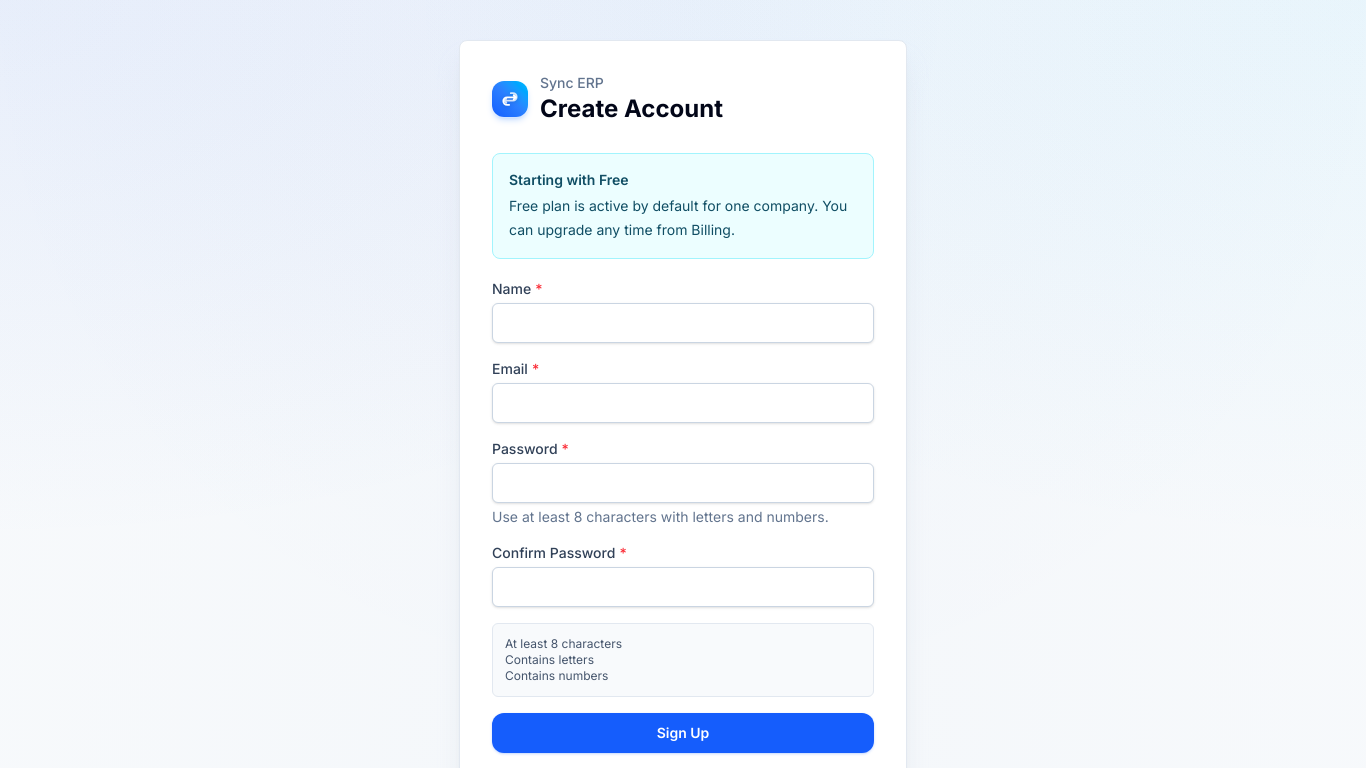
RegisterPage › Form Submission › shows verification screen on successful registration
Type "Test User" into the field labelled "Name*" at (683, 323), box [492,303,874,343]
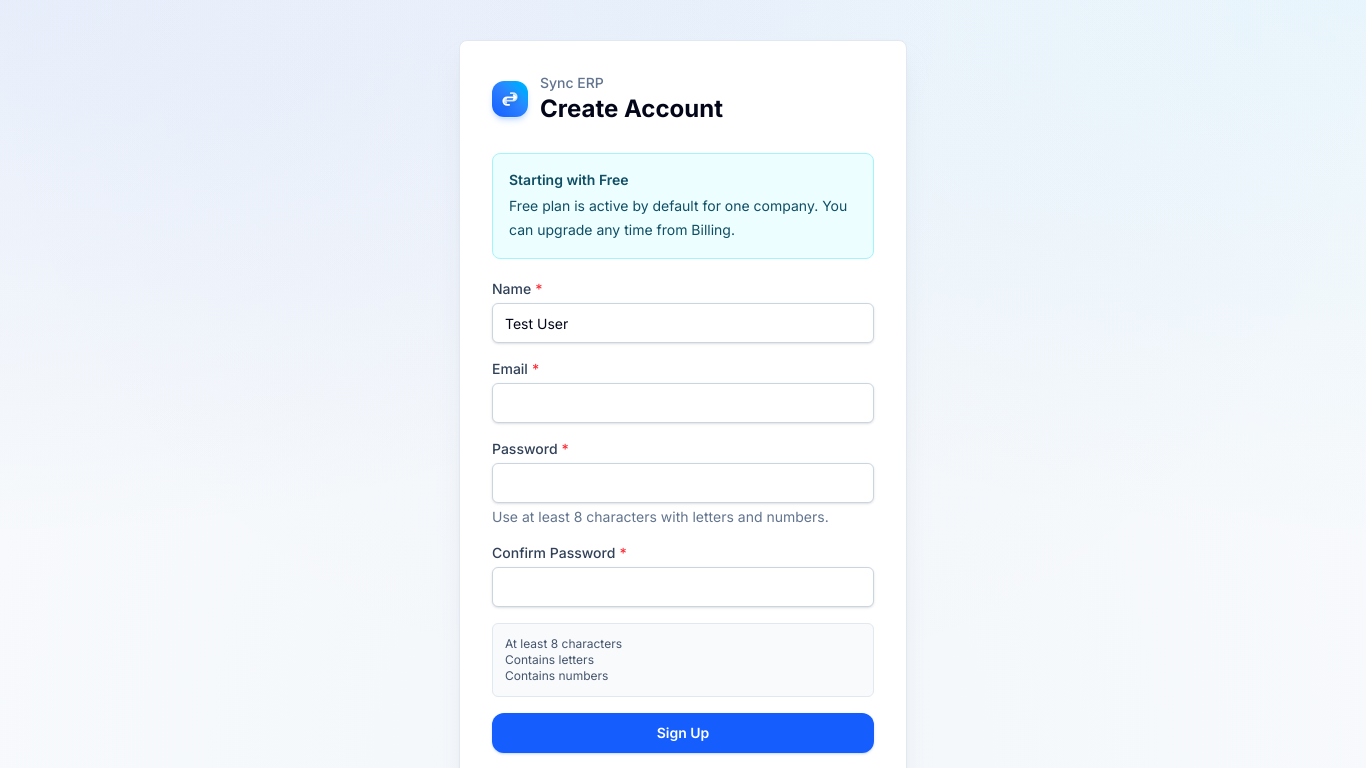
Type "test@example.com" into the field labelled "Email*" at (683, 403), box [492,383,874,423]
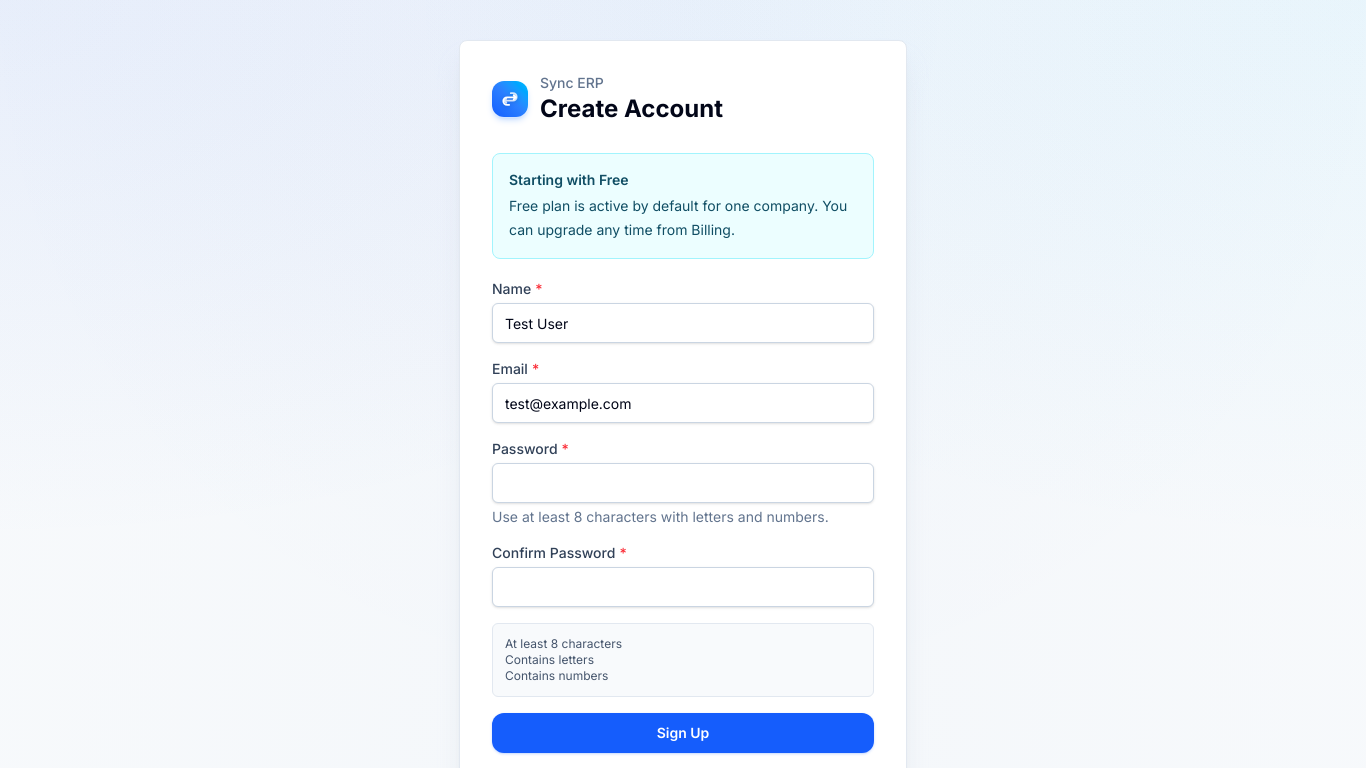
Type "password123" into the password field labelled "Password*" at (683, 483), box [492,463,874,503]
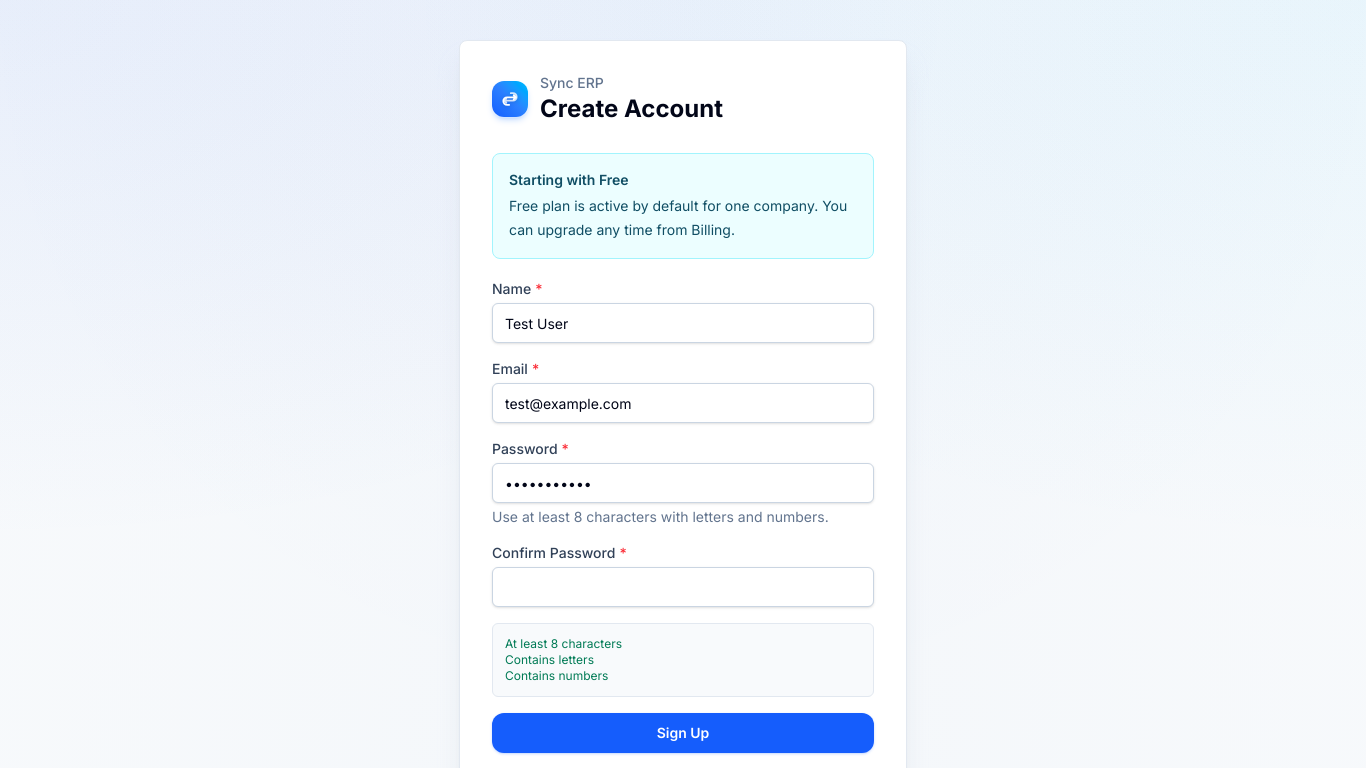
Type "password123" into the password field labelled "Confirm Password*" at (683, 587), box [492,567,874,607]
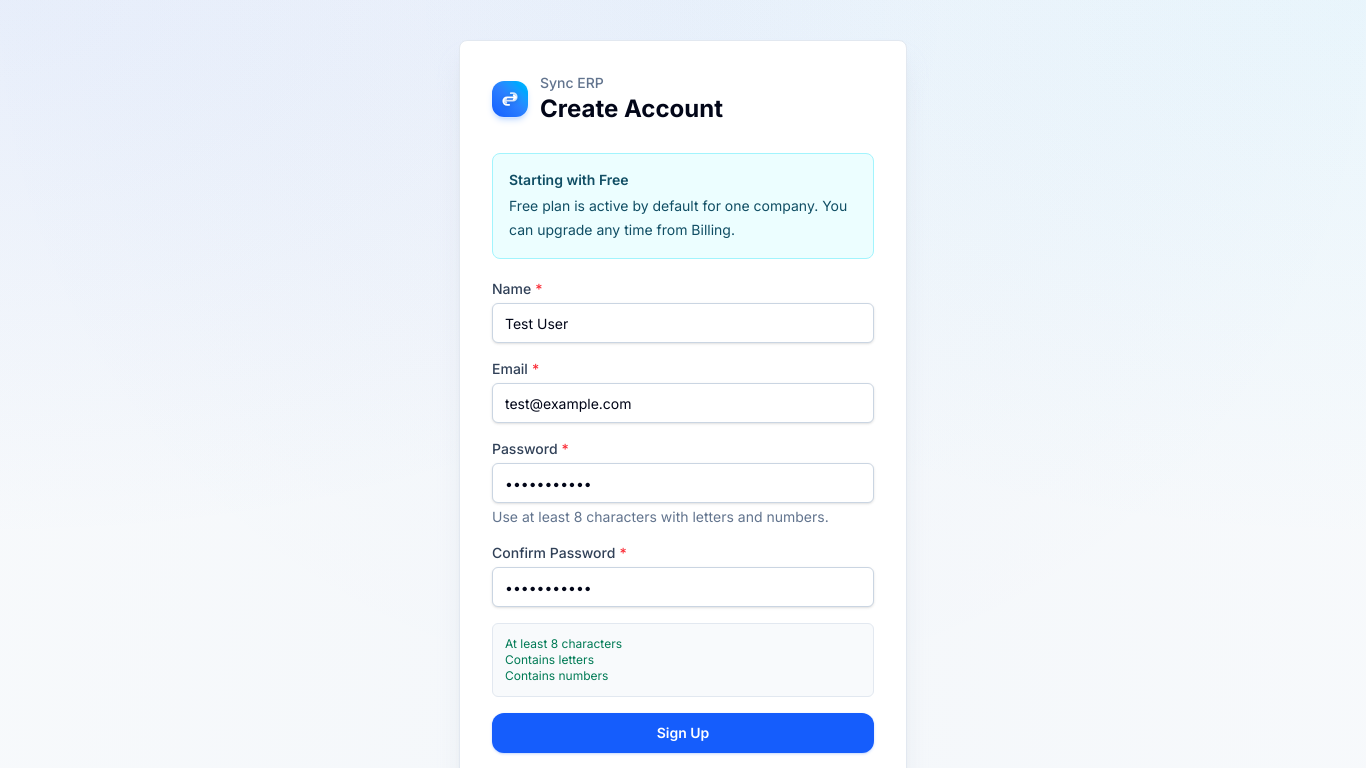
Click the button "Sign Up" at (683, 733), box [492,713,874,753]
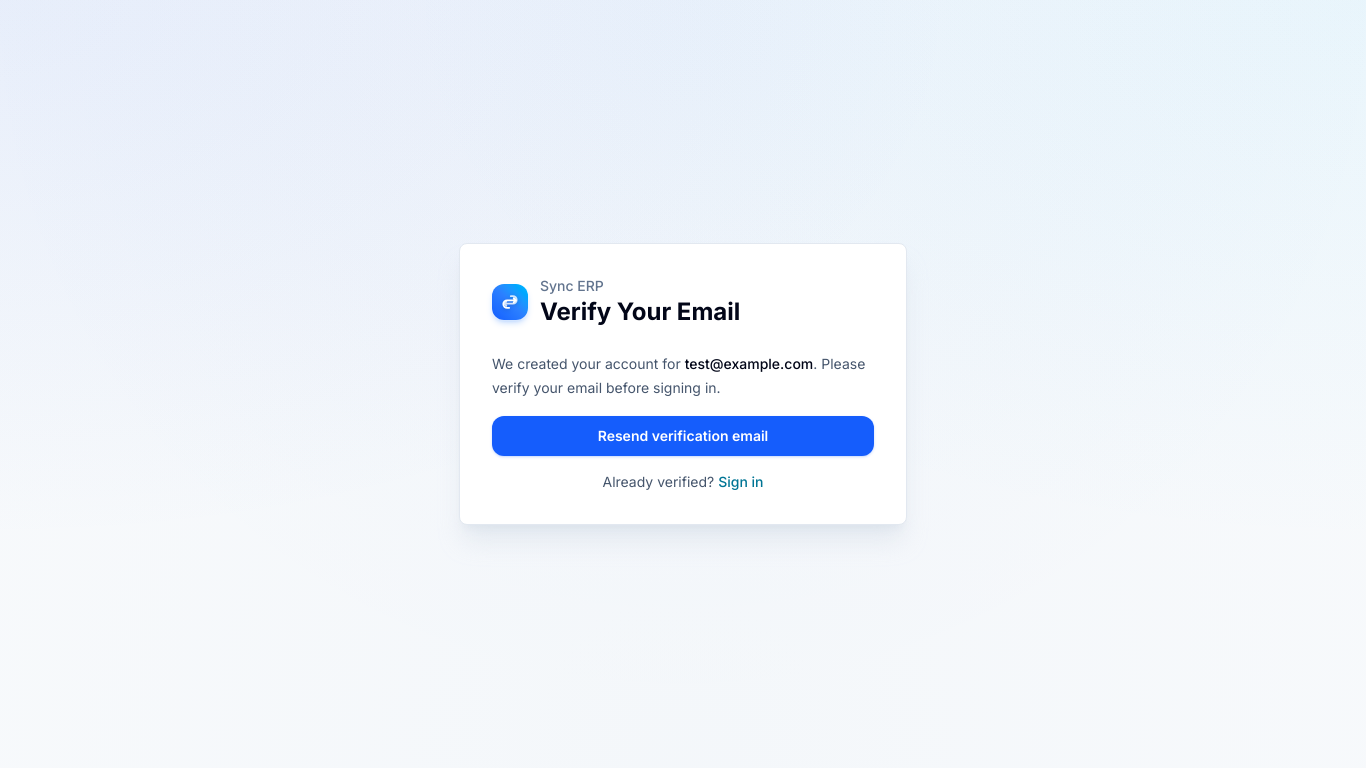
Expected: the heading "Verify Your Email" is shown, [540,296,740,328]
Expected: the text "test@example.com" is shown, [685,355,813,372]
